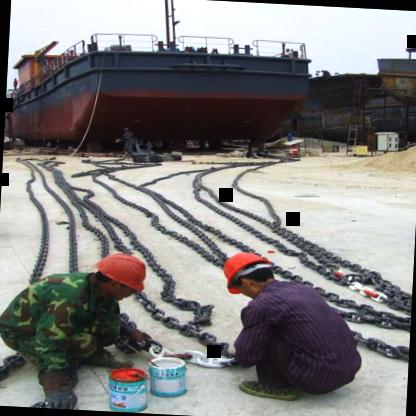helmet: (84, 248, 154, 305), (218, 247, 280, 298)
